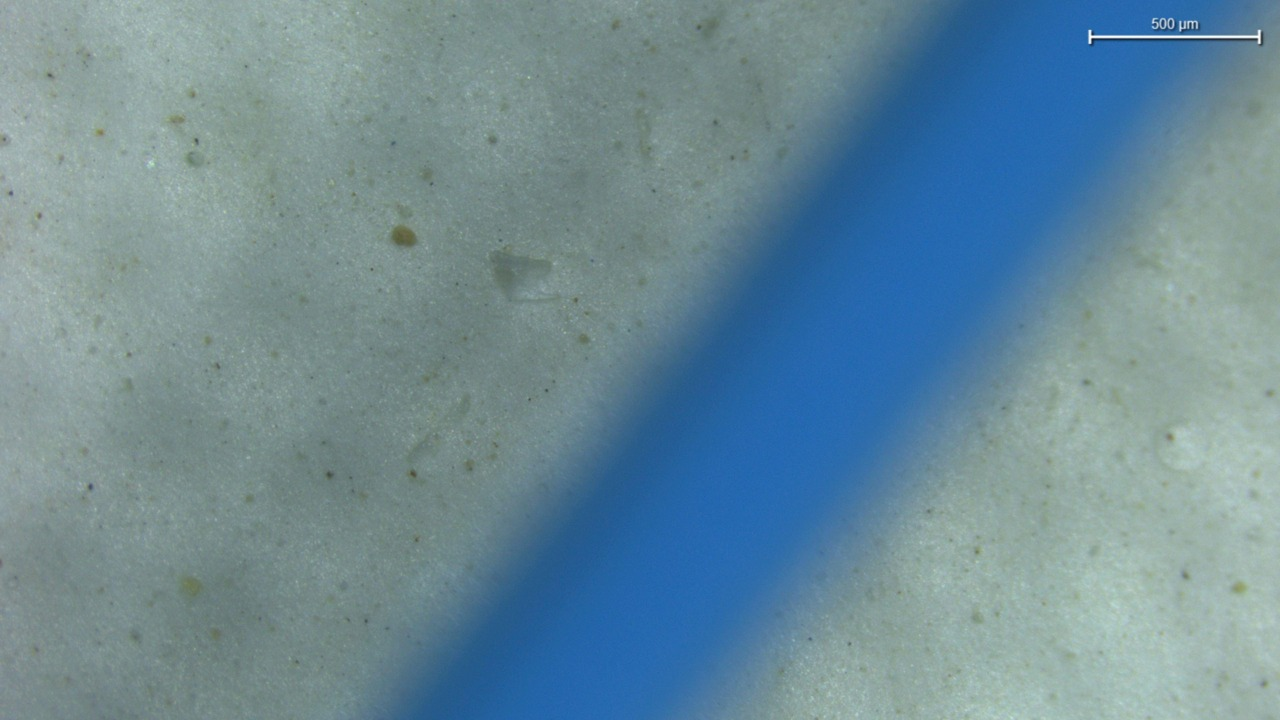microplastic_fragment: (489, 250, 559, 302)
